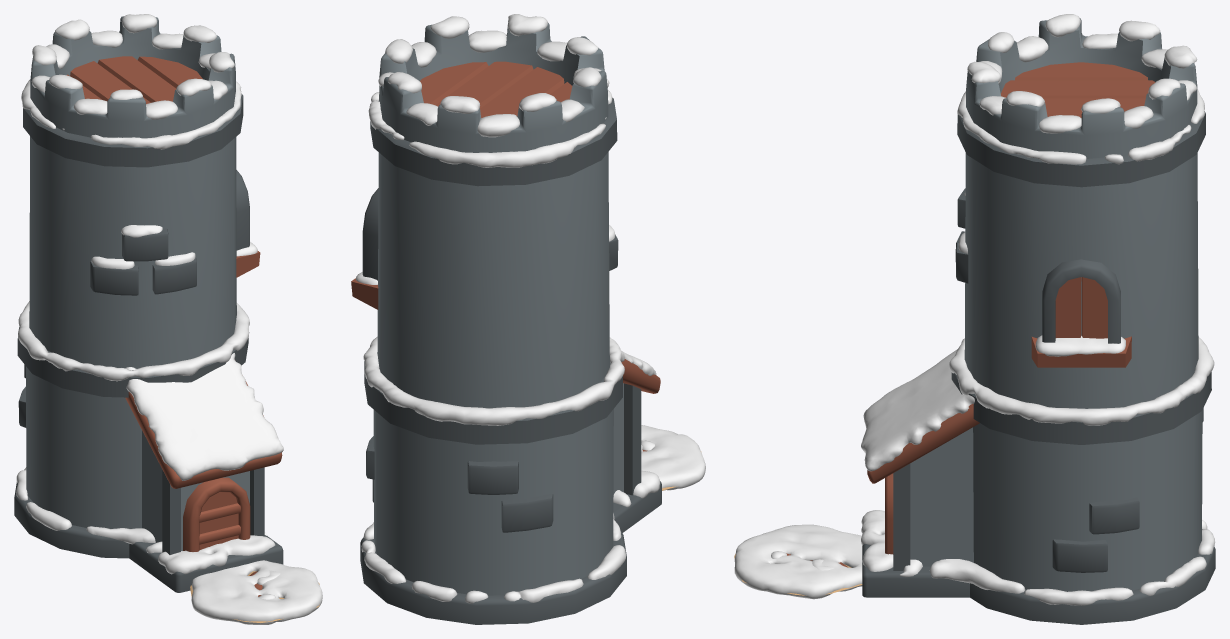
Rendered from watchtower.fbx.
The picture shows the model from 3 angles, left to right: view 1: azimuth 30°, elevation 25°; view 2: azimuth 150°, elevation 25°; view 3: azimuth 270°, elevation 25°; orthographic projection. The views are drawn at different scales.
Visible parts, largest first — view 1: watchtower, SnowBall.072, SnowBall.071, SnowBall.082, watchtower.024, watchtower.009, watchtower.001, watchtower.002, SnowBall.081, watchtower.006, watchtower.008, watchtower.015 (+7 smaller); view 2: watchtower, SnowBall.072, watchtower.024, watchtower.009, SnowBall.081, SnowBall.082, watchtower.008, watchtower.013, watchtower.014, watchtower.010, watchtower.001, watchtower.006 (+1 smaller); view 3: watchtower, SnowBall.072, SnowBall.082, watchtower.001, SnowBall.071, watchtower.024, watchtower.009, watchtower.010, watchtower.012, SnowBall.081, watchtower.006, watchtower.007 (+5 smaller).
Part boxes in pixels (x1,y1,x2,y2): watchtower: (14,16,283,592); SnowBall.072: (16,14,275,574); SnowBall.071: (126,353,283,480); SnowBall.082: (191,560,322,624); watchtower.024: (23,94,243,167); watchtower.009: (66,56,202,103); watchtower.001: (142,430,249,550); watchtower.002: (183,477,250,551); SnowBall.081: (21,79,241,149); watchtower.006: (125,381,282,488); watchtower.008: (162,470,180,554); watchtower.015: (90,261,138,295); watchtower: (360,21,661,624); SnowBall.072: (361,14,659,603); watchtower.024: (370,98,617,186); watchtower.009: (420,61,572,117); SnowBall.081: (368,89,612,167); SnowBall.082: (641,425,705,490); watchtower.008: (624,383,641,495); watchtower.013: (501,493,553,532); watchtower.014: (467,461,518,494); watchtower.010: (362,188,378,280); watchtower.001: (613,383,623,494); watchtower.006: (621,359,660,393); watchtower: (862,18,1215,624); SnowBall.072: (861,14,1215,605); SnowBall.082: (734,524,862,599); watchtower.001: (910,427,973,566); SnowBall.071: (861,349,974,471); watchtower.024: (957,111,1205,187); watchtower.009: (1001,62,1155,117); watchtower.010: (1042,259,1120,343); watchtower.012: (1055,277,1107,338); SnowBall.081: (957,89,1204,164); watchtower.006: (867,404,979,483); watchtower.007: (893,463,910,570).
Size of the model in its own units: 97.72 by 200 by 171.
